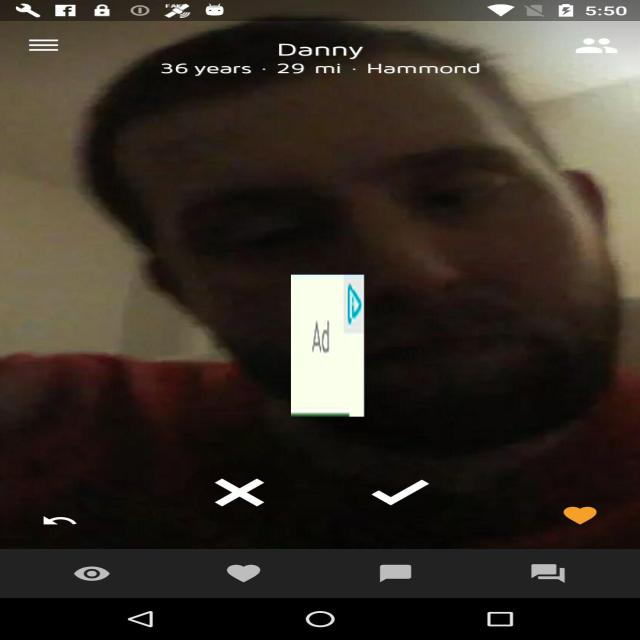sneaking: (291, 274, 365, 416)
